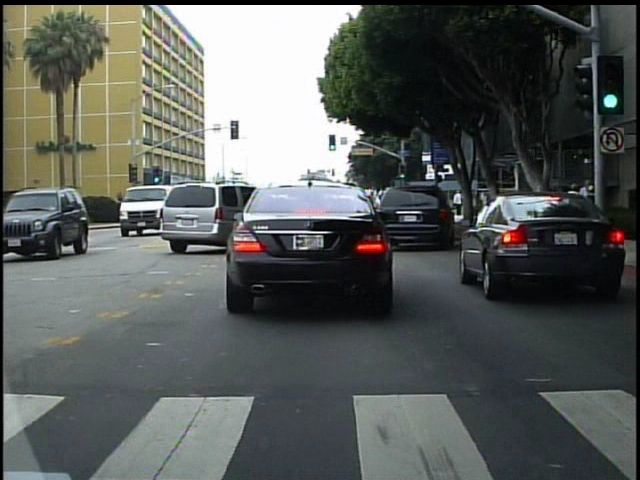person: (577, 173, 596, 233), (453, 186, 463, 216)
